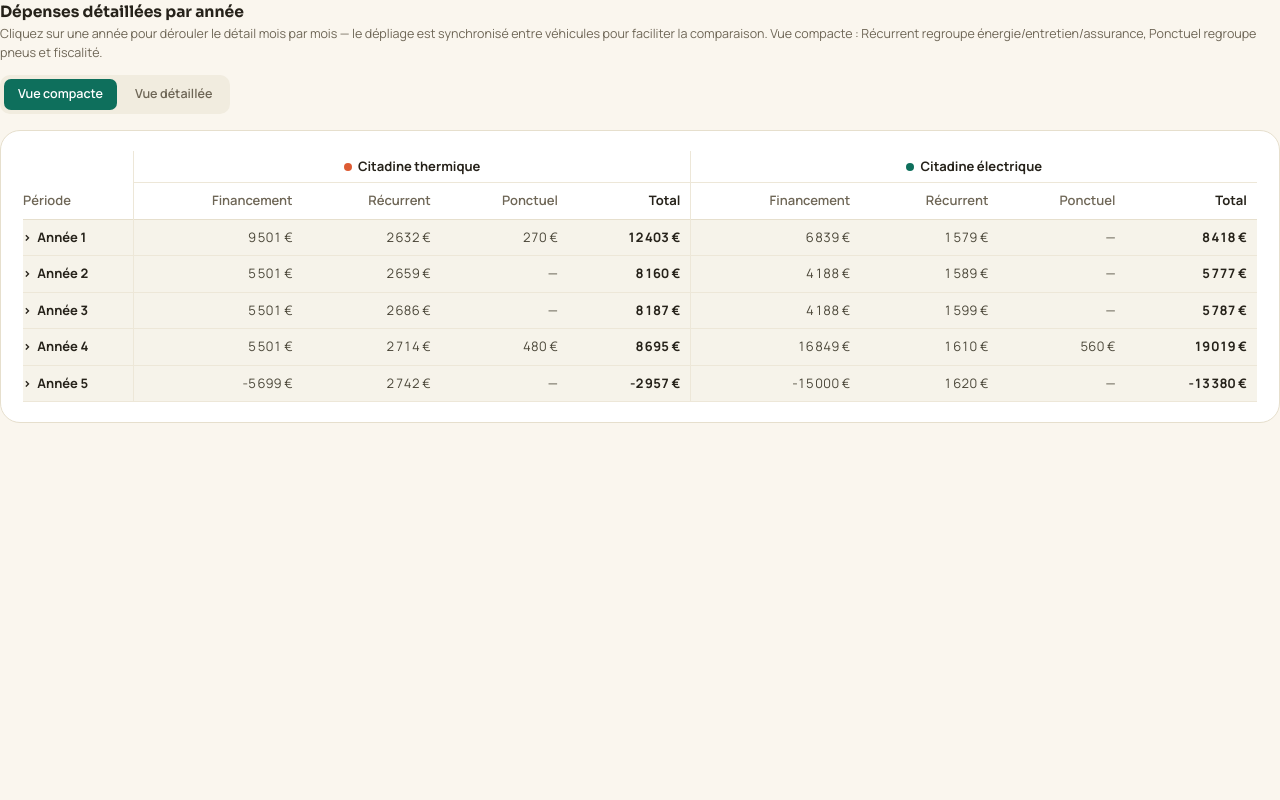
Test: MonthlyScheduleTable — detailed view › expands a year across all vehicles at once in detailed view too
Click the button "Vue détaillée" at (174, 94), box left=121, top=79, right=226, bottom=110
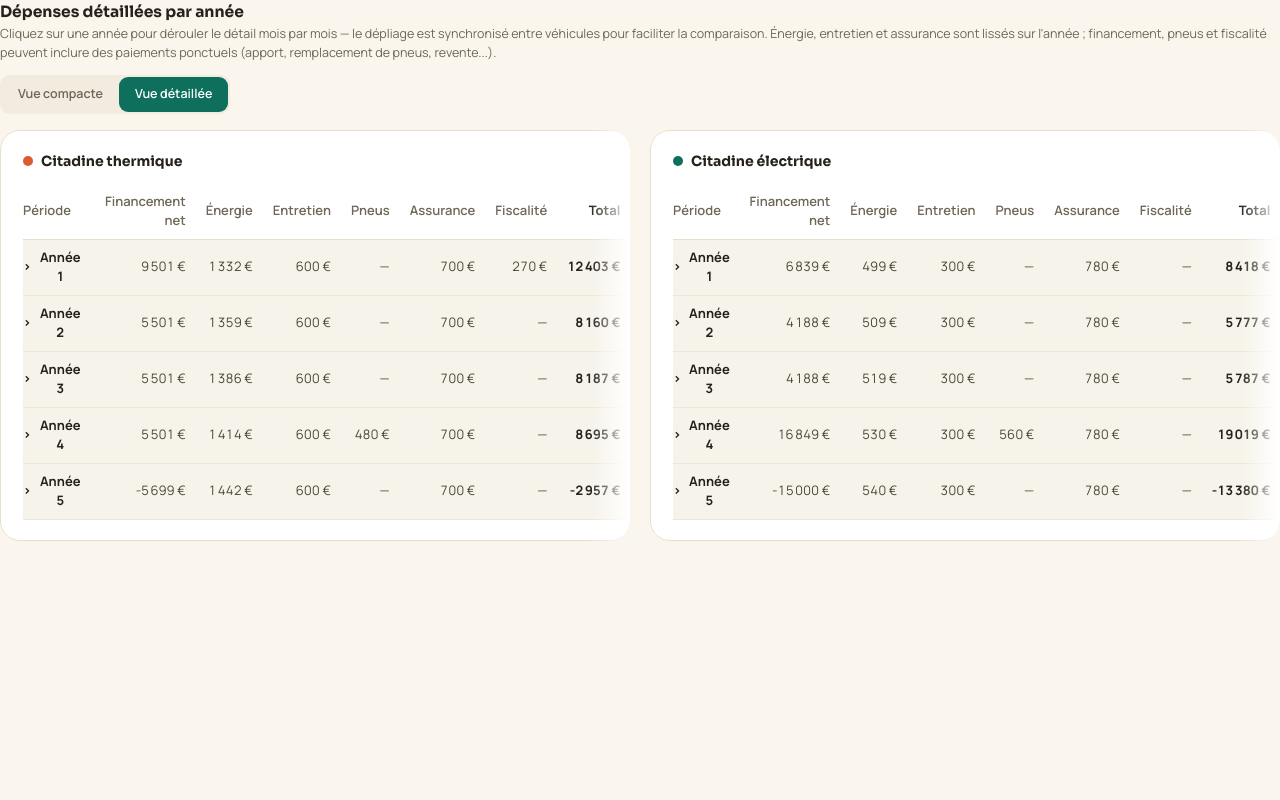
Click the button "› Année 1" next to "9 501 €" at (53, 267), box left=23, top=248, right=83, bottom=286
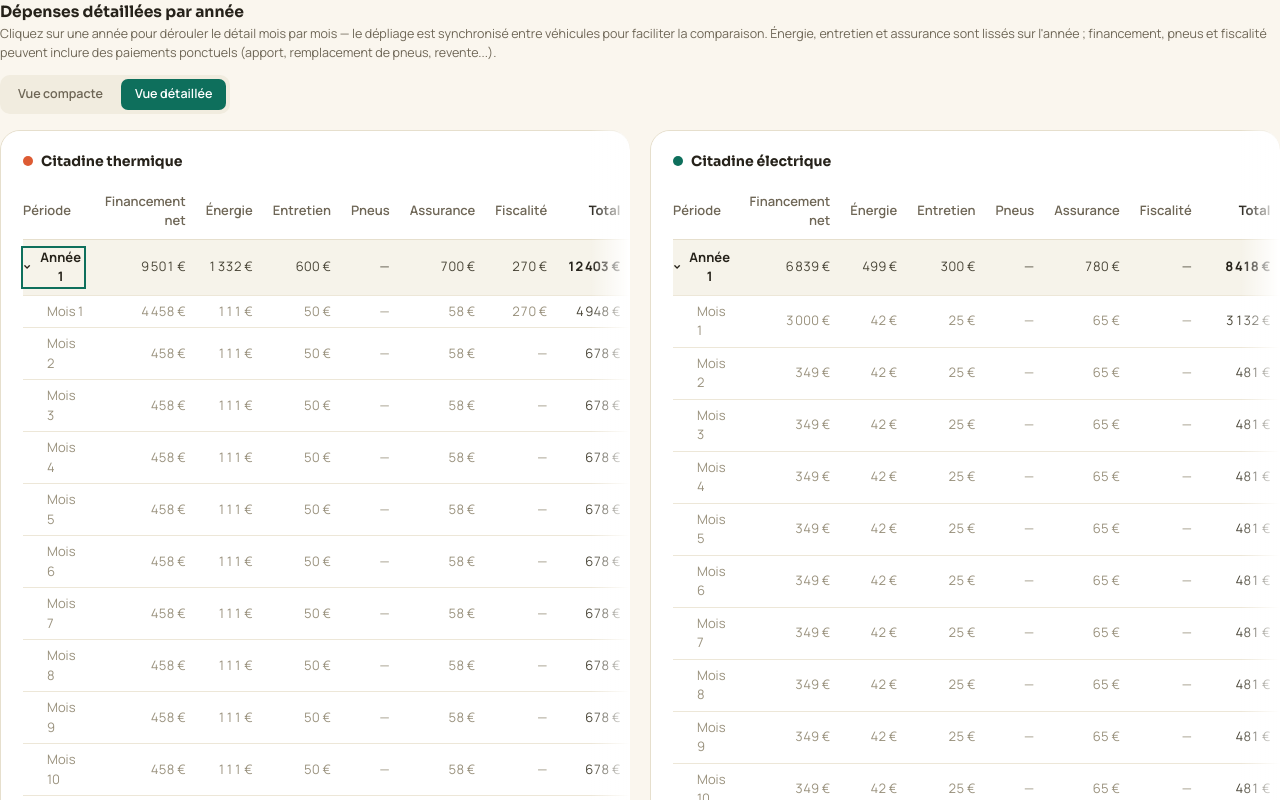
Check: the text "Mois 1" is shown 24 times
